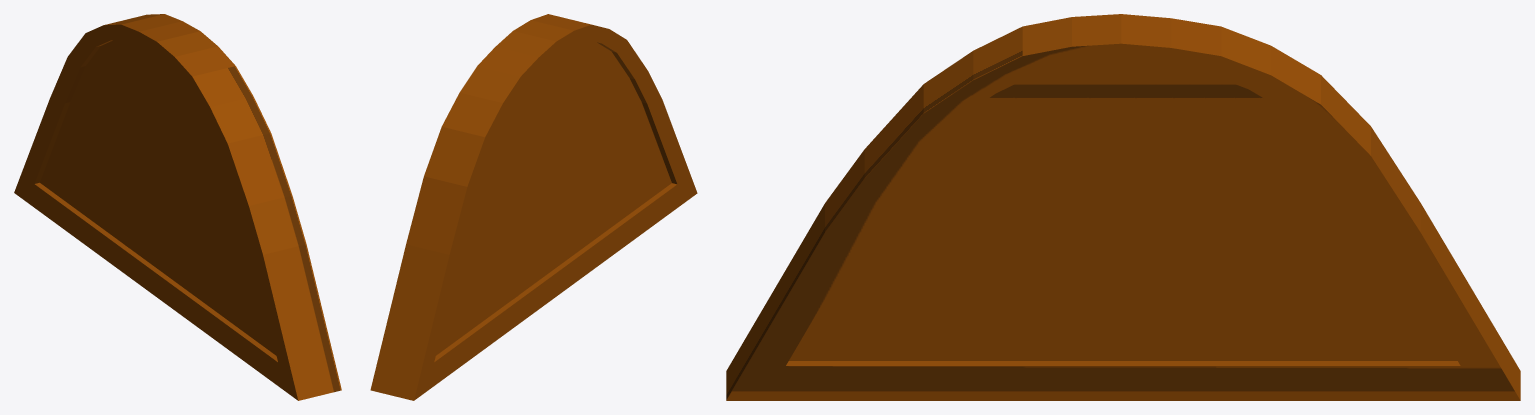
Rendered from Door.fbx.
3 renders of one model, left to right at view 1: azimuth 30°, elevation 25°; view 2: azimuth 150°, elevation 25°; view 3: azimuth 270°, elevation 25°, orthographic. The views are drawn at different scales.
Parts seen in each view (by area): view 1: Door2; view 2: Door2; view 3: Door2.
Boxes of the visible parts, left/top/right/bottom form: Door2: left=14, top=14, right=341, bottom=400; Door2: left=370, top=14, right=697, bottom=400; Door2: left=726, top=14, right=1520, bottom=400.
Size of the model in its own units: 80 by 448 by 904.
